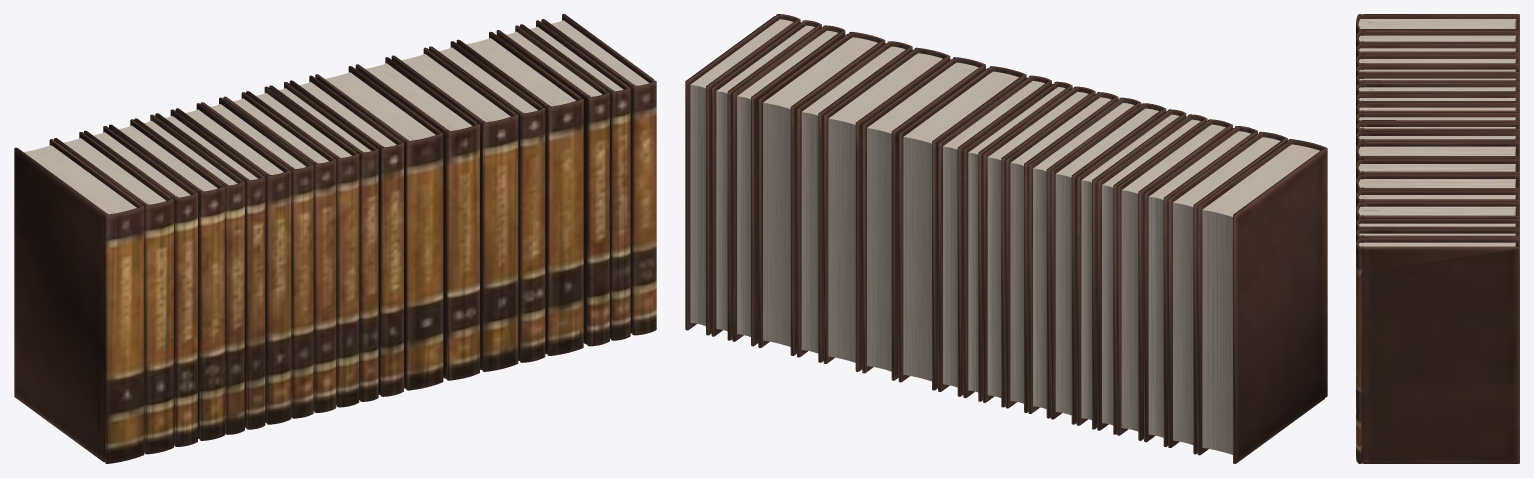
The model's file is book_encyclopedia_set_01.glb.
3 views of the same model, side by side, from view 1: azimuth 30°, elevation 25°; view 2: azimuth 150°, elevation 25°; view 3: azimuth 270°, elevation 25° (orthographic). The views are drawn at different scales.
Parts seen in each view (by area): view 1: book_encyclopedia_set_01_book01; view 2: book_encyclopedia_set_01_book01; view 3: book_encyclopedia_set_01_book01.
Part boxes in pixels (x1,y1,x2,y2): book_encyclopedia_set_01_book01: (14, 14, 656, 463); book_encyclopedia_set_01_book01: (685, 14, 1327, 463); book_encyclopedia_set_01_book01: (1356, 14, 1519, 463).
Size of the model in its own units: 0.5513 by 0.2374 by 0.1631.
Materials: 2 (2 with a texture image).
